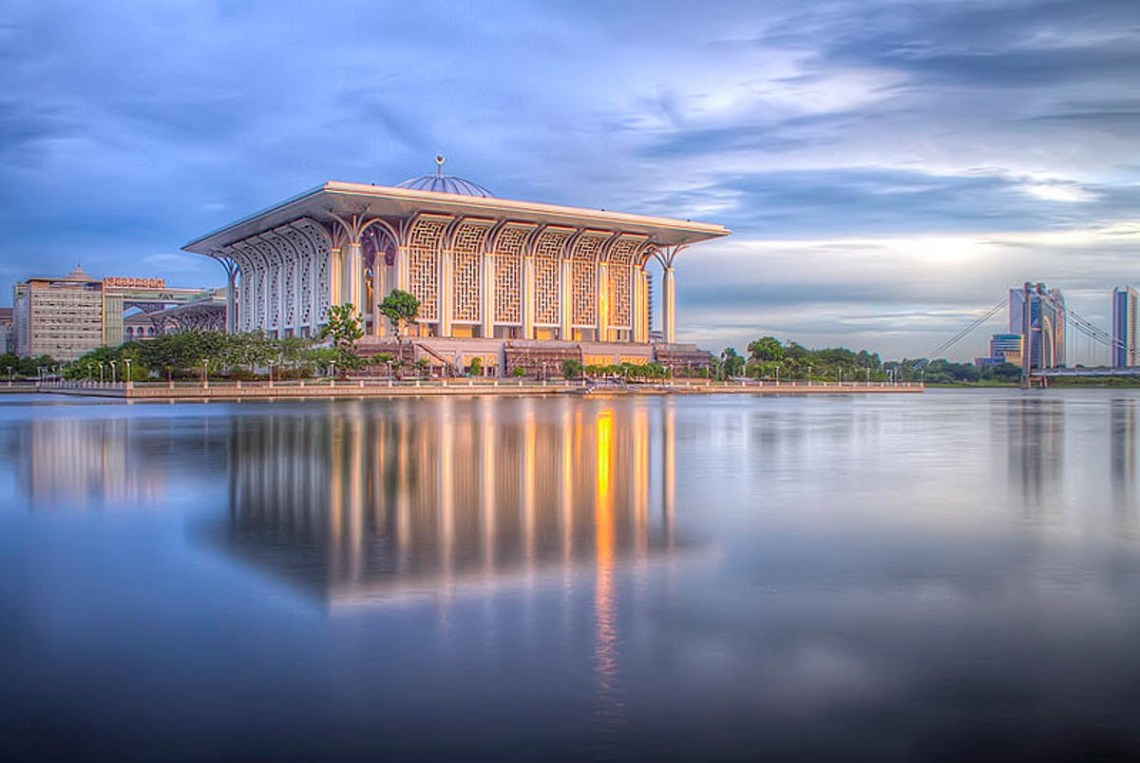Mosque: (165, 156, 711, 340)
